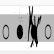correct: (16, 18, 24, 41)
not correct: (26, 6, 42, 50)
